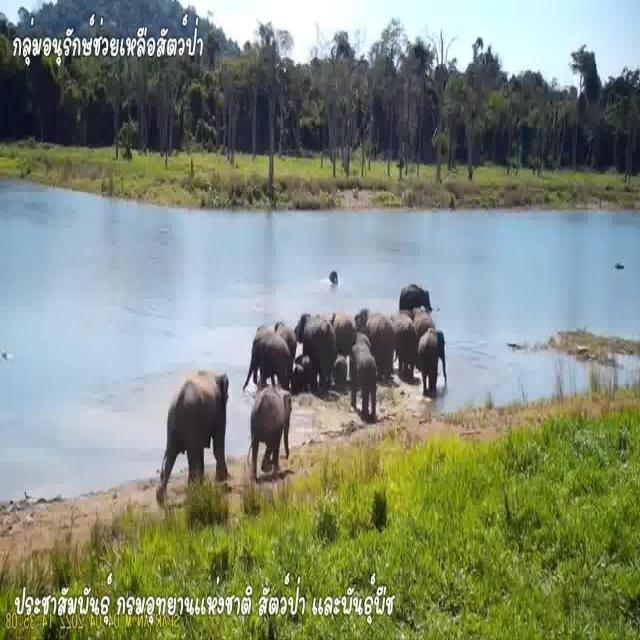Elephant: (157, 372, 232, 478), (247, 384, 292, 460), (295, 308, 336, 368), (251, 324, 291, 380), (419, 324, 451, 394), (351, 332, 376, 414), (396, 270, 434, 316)
